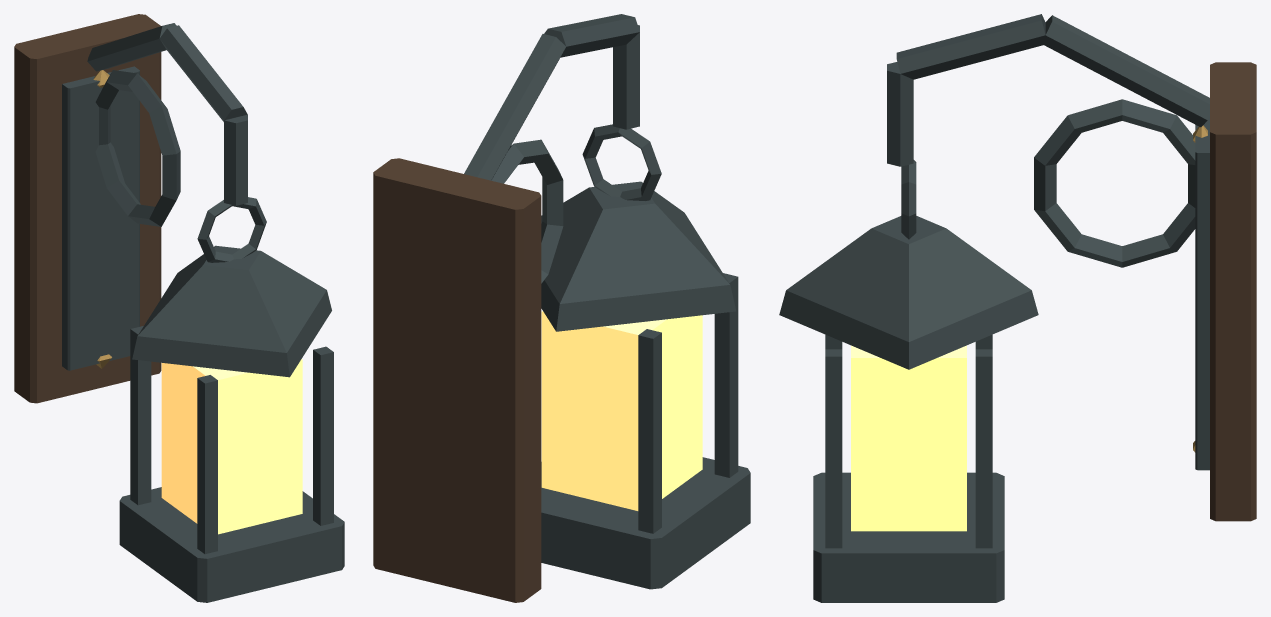
The model's file is decor_wall_lamp.glb.
The picture shows the model from 3 angles, left to right: view 1: azimuth 30°, elevation 25°; view 2: azimuth 150°, elevation 25°; view 3: azimuth 270°, elevation 25°; orthographic projection. The views are drawn at different scales.
Parts seen in each view (by area): view 1: geometry, light; view 2: geometry, light; view 3: geometry, light.
Part boxes in pixels (x1=…): geometry: x1=14, y1=14, x2=344, y2=602; light: x1=161, y1=359, x2=302, y2=534; geometry: x1=373, y1=14, x2=750, y2=602; light: x1=541, y1=311, x2=702, y2=510; geometry: x1=779, y1=14, x2=1256, y2=602; light: x1=851, y1=345, x2=966, y2=531.
Size of the model in its own units: 0.304 by 0.705 by 0.5595.
